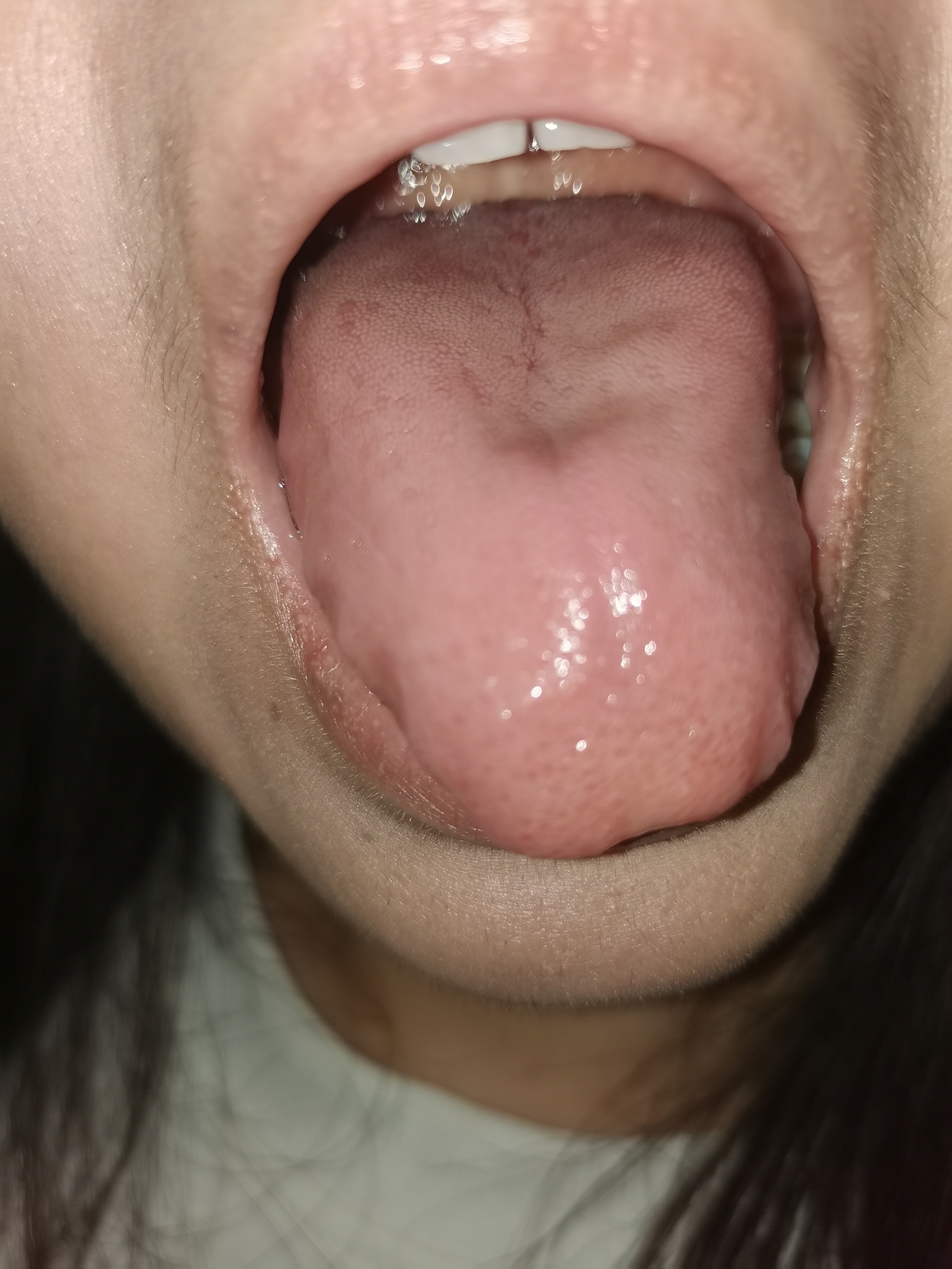baitaishe: (274, 195, 820, 856)
chihenshe: (278, 459, 410, 737)
